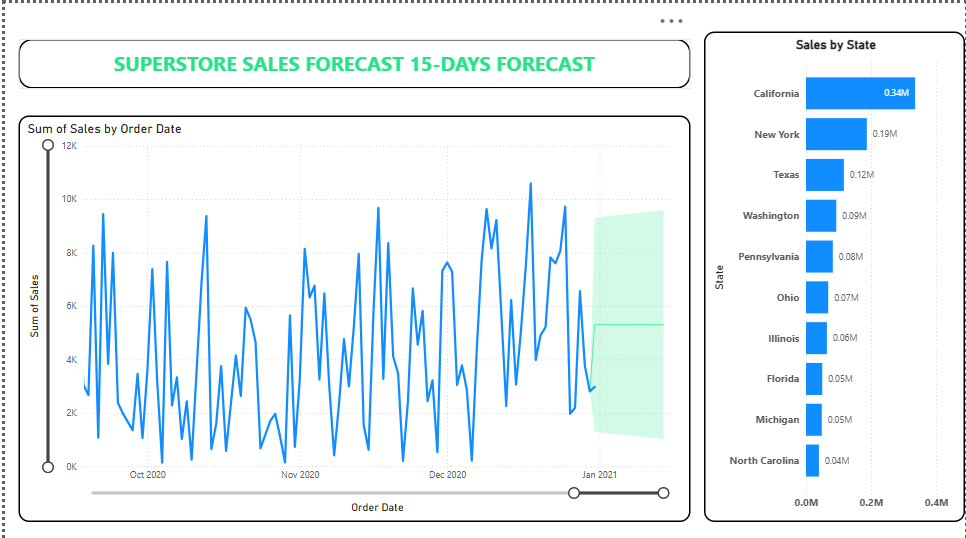

The dashboard page shown, as its layout file describes it:
{"tool":"powerbi","page":{"name":"Sales forecast","canvas":[1280,720],"ordinal":1},"visuals":[{"type":"lineChart","fields":{"Y":["Sum(SuperStore_Sales_Dataset.Sales)"],"Category":["SuperStore_Sales_Dataset.Order Date"]},"box":[18,150,896,542],"z":0},{"type":"textbox","box":[18,48,896,66],"z":1},{"type":"clusteredBarChart","title":"Sales by State","fields":{"Y":["Sum(SuperStore_Sales_Dataset.Sales)"],"Category":["SuperStore_Sales_Dataset.State"]},"box":[932,38,348,654],"z":2}]}

Visuals, with their boxes in screenshot pixels (x1, y1, x2, y2), scaled from the page's 1280x720 canvas onto the 966x538 screenshot:
lineChart - Sum(SuperStore_Sales_Dataset.Sales) x SuperStore_Sales_Dataset.Order Date: bbox=(14, 112, 690, 517)
textbox: bbox=(14, 36, 690, 85)
"Sales by State" clusteredBarChart: bbox=(703, 28, 965, 517)
